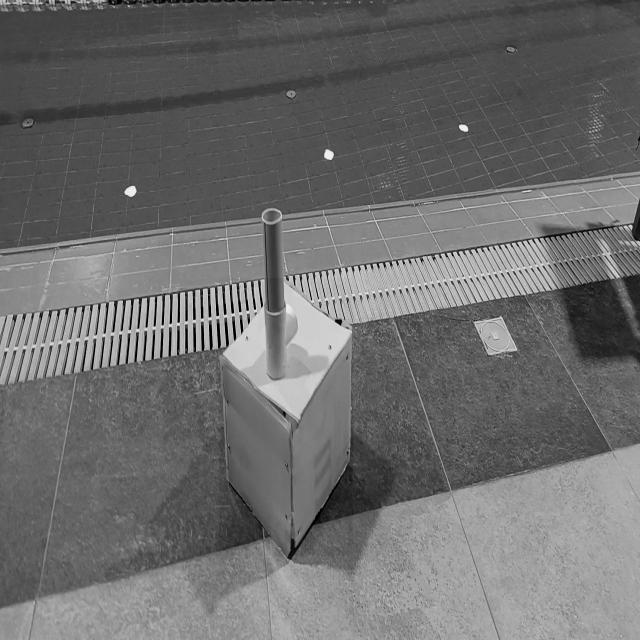Cube: (219, 278, 353, 556)
